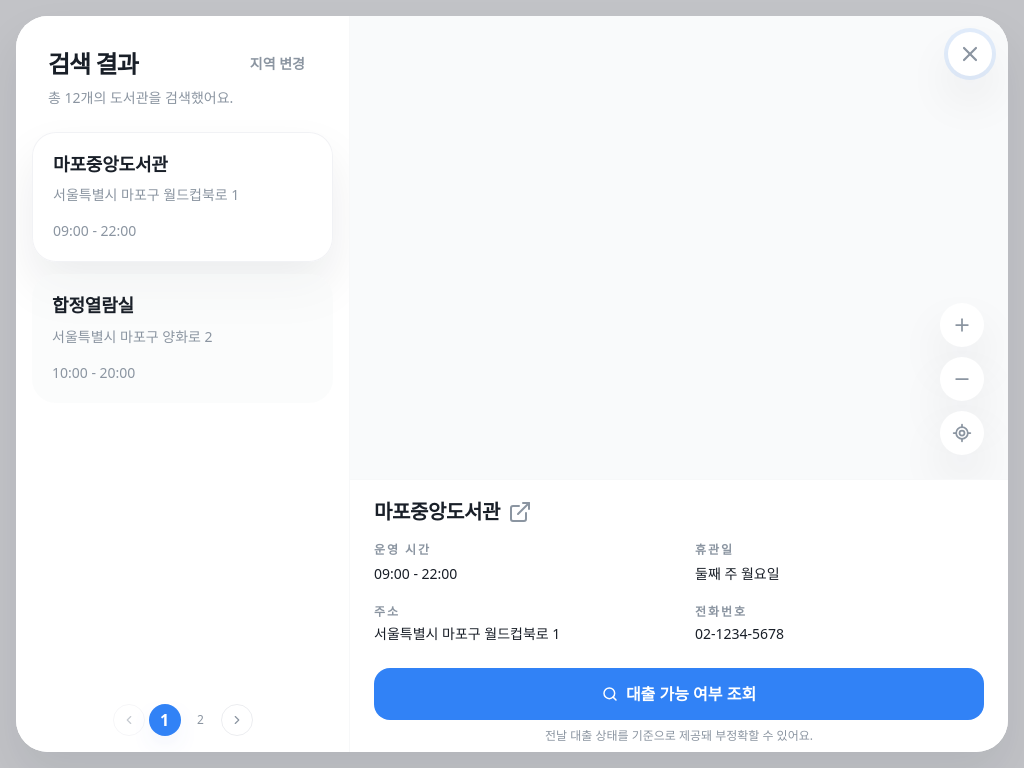
Test case: LibrarySearchResultDialog › 위치 정보가 없는 도서관을 골라도 도서관 정보는 바뀐다
What coordinates should you click on to do the following:
click the button "합정열람실 서울특별시 마포구 양화로 2 10:00 - 20:00"
I would click on:
 (182, 338)
Its box is [32,274,333,403].
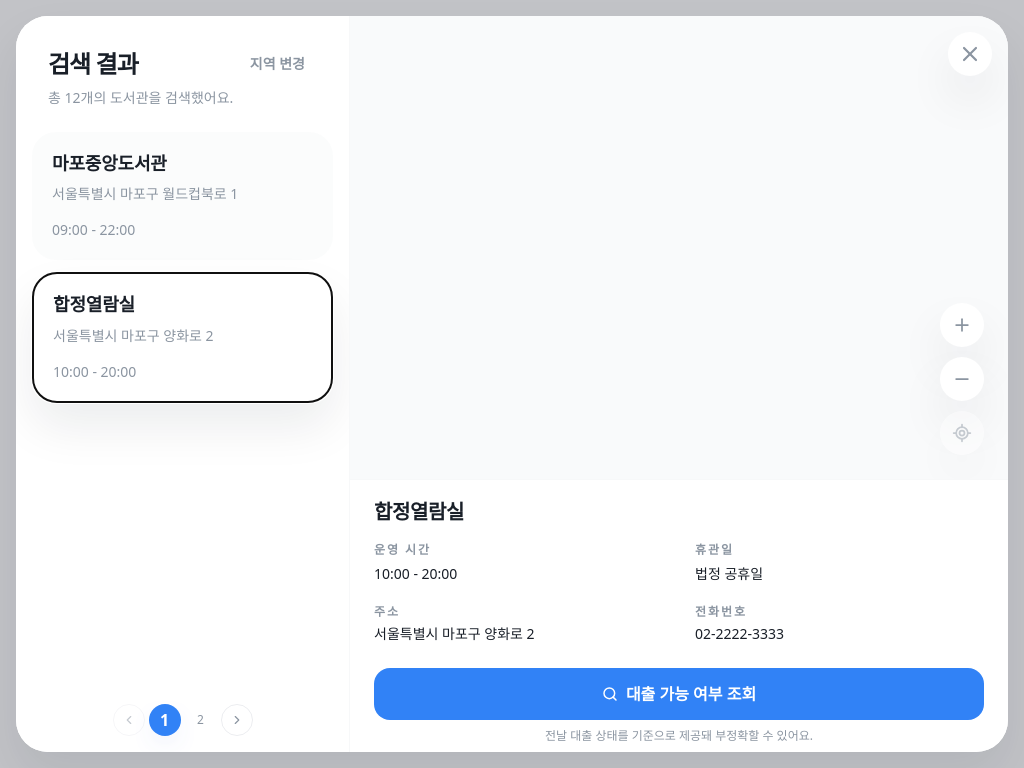
Result: the 2nd heading "합정열람실" is shown at [374,500,464,524]
